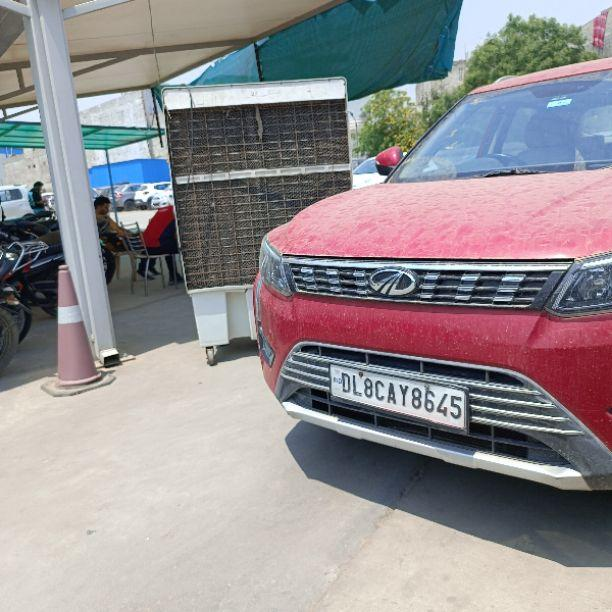license_plate: (327, 362, 470, 435)
